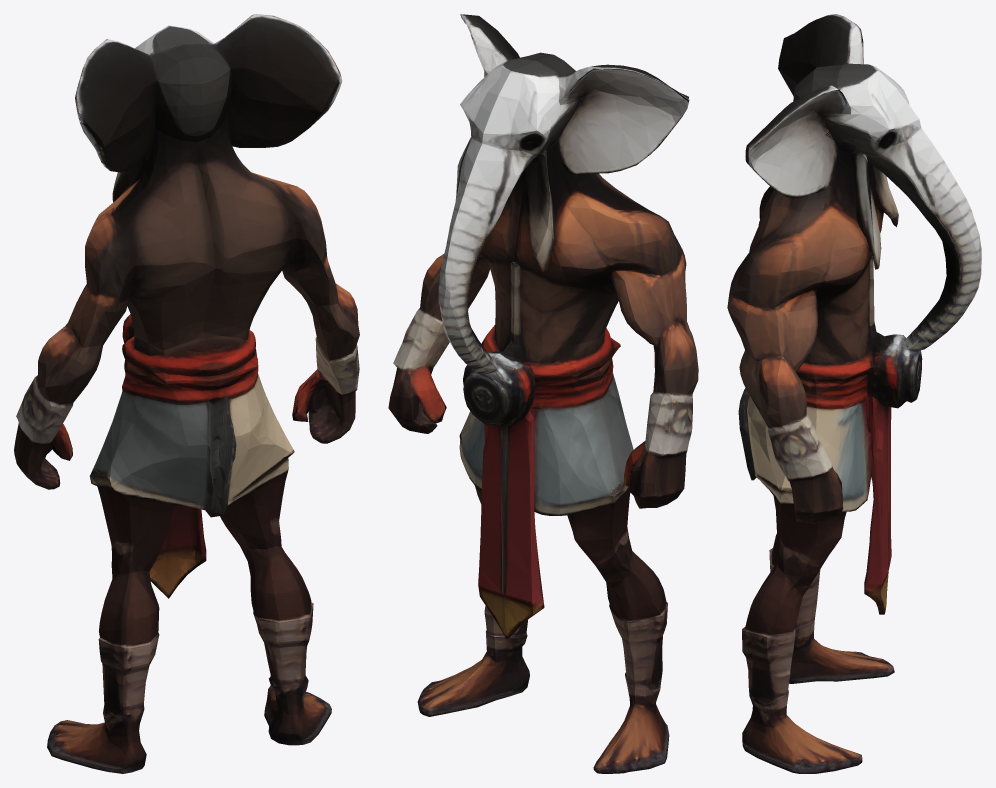
Rendered from fil.glb.
3 renders of one model, left to right at view 1: azimuth 30°, elevation 25°; view 2: azimuth 150°, elevation 25°; view 3: azimuth 270°, elevation 25°, orthographic. The views are drawn at different scales.
Visible parts, largest first — view 1: fil; view 2: fil; view 3: fil.
Part boxes in pixels (box(x1,y1,x2,y2)): fil: box(14, 14, 359, 773); fil: box(388, 14, 698, 773); fil: box(727, 14, 981, 773).
Bounding box in the file's own units: 0.6374 × 1.37 × 0.4781.
Materials: 1 (1 with a texture image).
